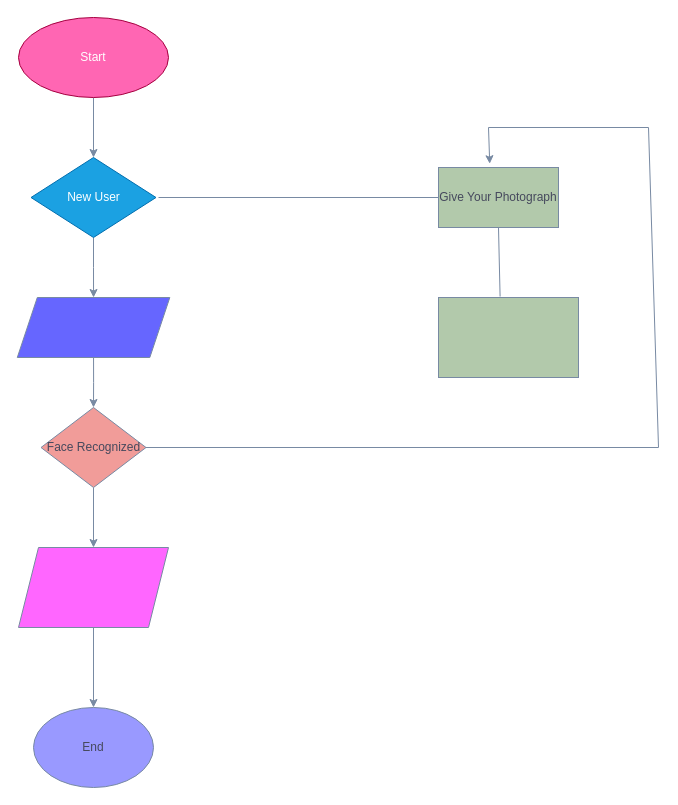
Image size: 678x805. Some labels were removed from this diagram. The shapes that lost their labels are listed below. From the top down, each one's centre as x and y in pixels, then its label:
At (x=93, y=327): "Recognize the face".
At (x=508, y=337): "Store a face date in a folder on your name".
At (x=93, y=587): "Store it in the csv file with registration number&date time of entry".
